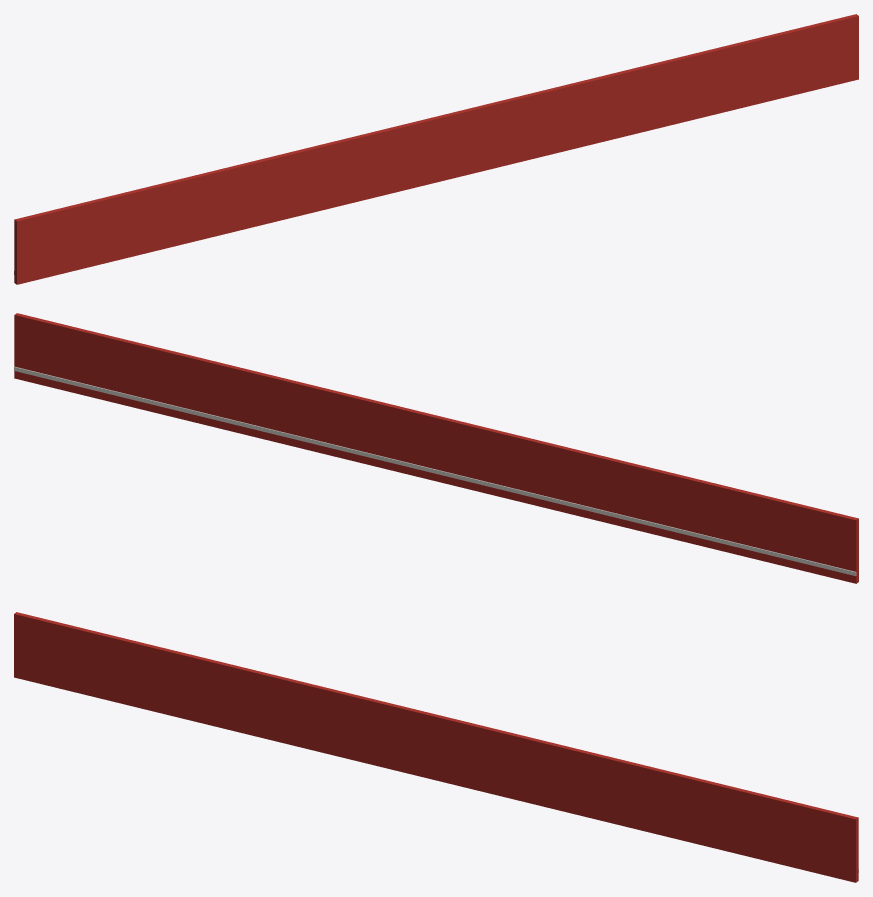
Rendered from wall_band_red.glb.
3 renders of one model, top to bottom at view 1: azimuth 30°, elevation 25°; view 2: azimuth 150°, elevation 25°; view 3: azimuth 330°, elevation 25°, orthographic.
Parts seen in each view (by area): view 1: wall_band_red; view 2: wall_band_red; view 3: wall_band_red.
Boxes of the visible parts, bbox=[...] form: wall_band_red: bbox=[14, 14, 858, 284]; wall_band_red: bbox=[14, 313, 858, 583]; wall_band_red: bbox=[14, 612, 858, 882].
Size of the model in its own units: 22.2 by 1.6 by 0.14.
